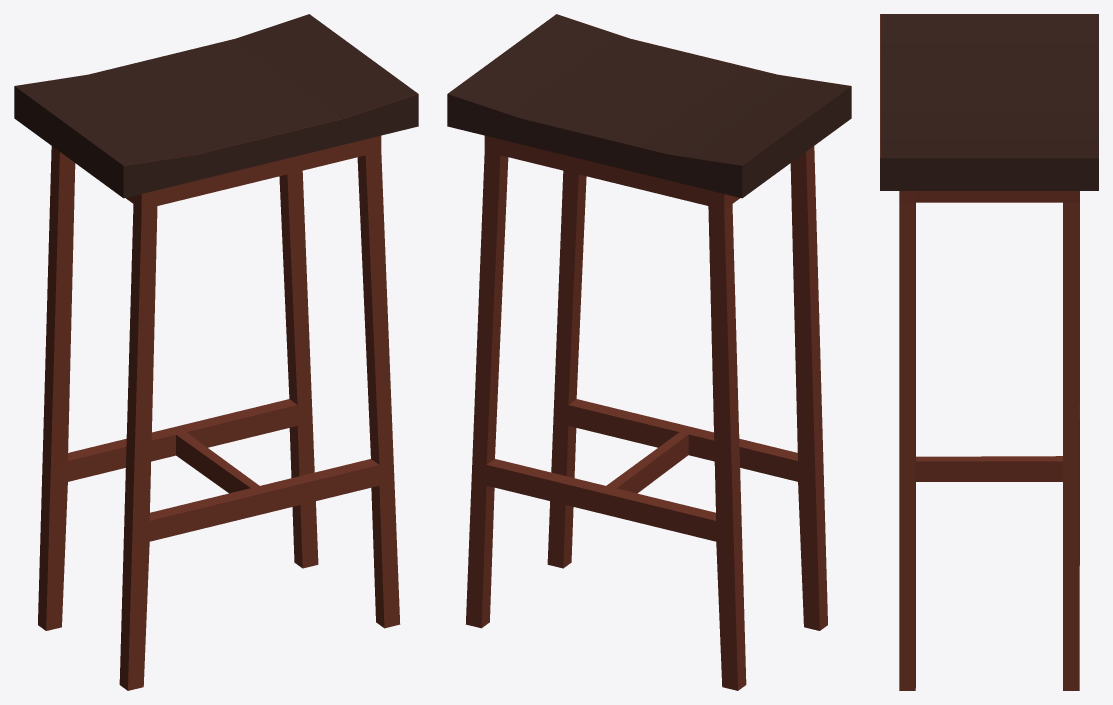
Rendered from stool.FBX.
3 renders of one model, left to right at view 1: azimuth 30°, elevation 25°; view 2: azimuth 150°, elevation 25°; view 3: azimuth 270°, elevation 25°, orthographic.
Parts seen in each view (by area): view 1: stool; view 2: stool; view 3: stool.
Boxes of the visible parts, x1,y1,x2,y2 form: stool: (14, 14, 418, 690); stool: (447, 14, 851, 690); stool: (880, 14, 1098, 690).
Size of the model in its own units: 22.05 by 38.26 by 14.14.
